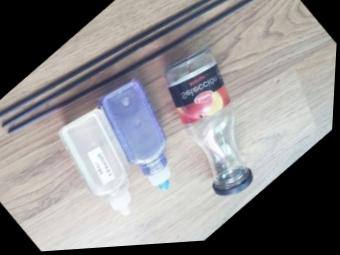glass: (125, 24, 308, 217)
